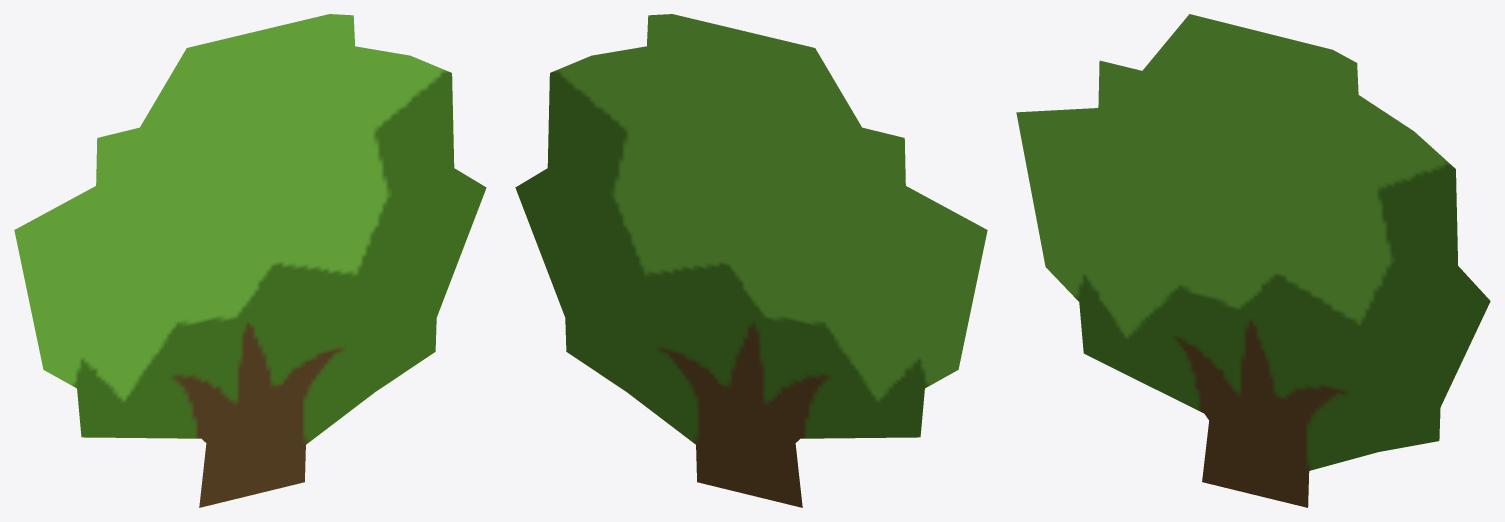
Rendered from deletewoodsA.fbx.
3 renders of one model, left to right at view 1: azimuth 30°, elevation 25°; view 2: azimuth 150°, elevation 25°; view 3: azimuth 330°, elevation 25°, orthographic.
Visible parts, largest first — view 1: woodsA; view 2: woodsA; view 3: woodsA.
Part boxes in pixels (x1,y1,x2,y2): woodsA: (14, 14, 486, 507); woodsA: (515, 14, 987, 507); woodsA: (1016, 14, 1490, 507).
Bounding box in the file's own units: 178 × 167 × 2.33e-14.
